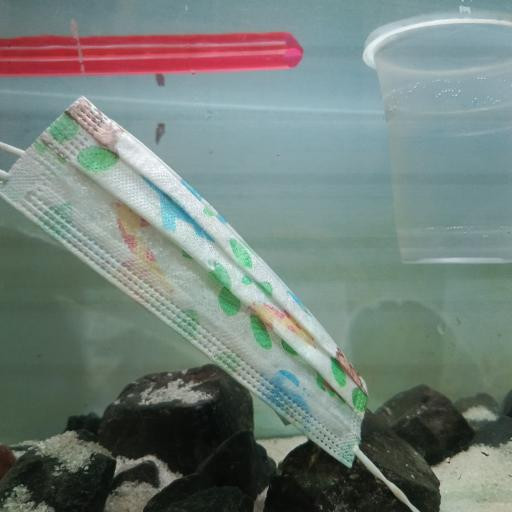mask: (1, 93, 375, 472)
plastic_cup: (363, 13, 512, 267)
plastic_straw: (0, 38, 300, 70)
